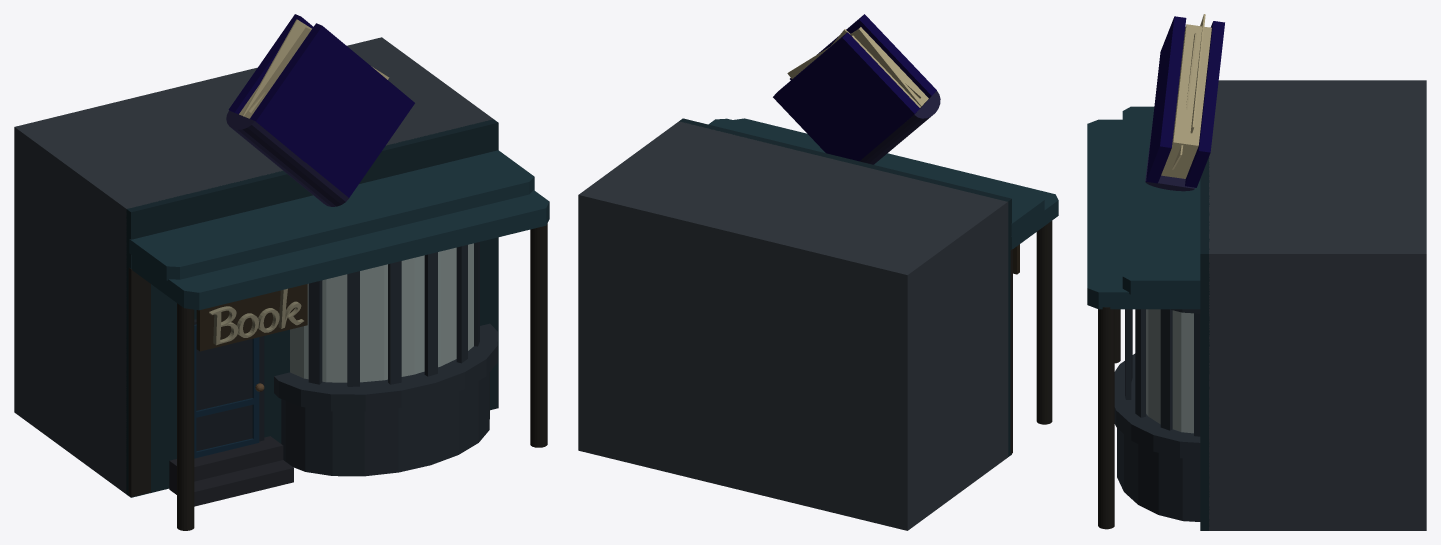
The model's file is Biblioteque.fbx.
The picture shows the model from 3 angles, left to right: view 1: azimuth 30°, elevation 25°; view 2: azimuth 150°, elevation 25°; view 3: azimuth 270°, elevation 25°; orthographic projection. The views are drawn at different scales.
Parts seen in each view (by area): view 1: gr_bibliC1; view 2: gr_bibliC1; view 3: gr_bibliC1.
Part boxes in pixels (x1,y1,x2,y2): gr_bibliC1: [14, 14, 549, 530]; gr_bibliC1: [578, 14, 1058, 530]; gr_bibliC1: [1087, 14, 1426, 530].
Bounding box in the file's own units: 6.12 × 6.97 × 5.04.
